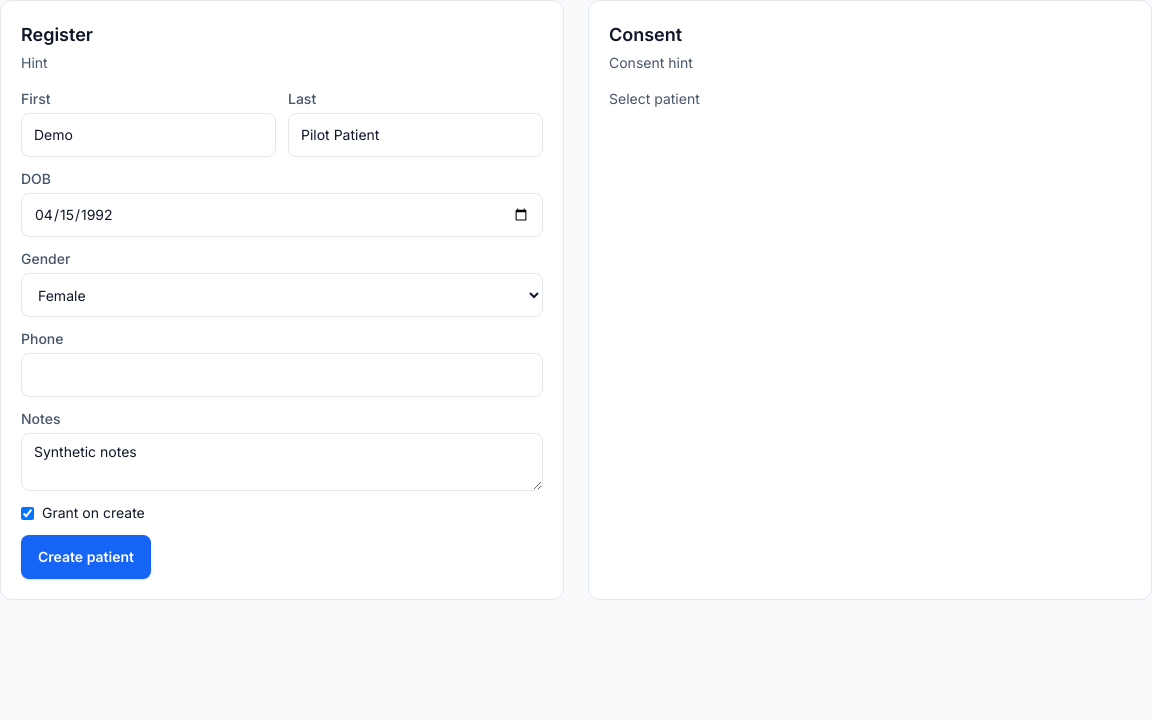
Test case: PatientOnboardingPanel › shows warning when patient is created but consent grant fails with non-409 error
The width and height of the screenshot is (1152, 720).
Click the button "Create patient" at (86, 557), box top-left (21, 535), bottom-right (151, 579)
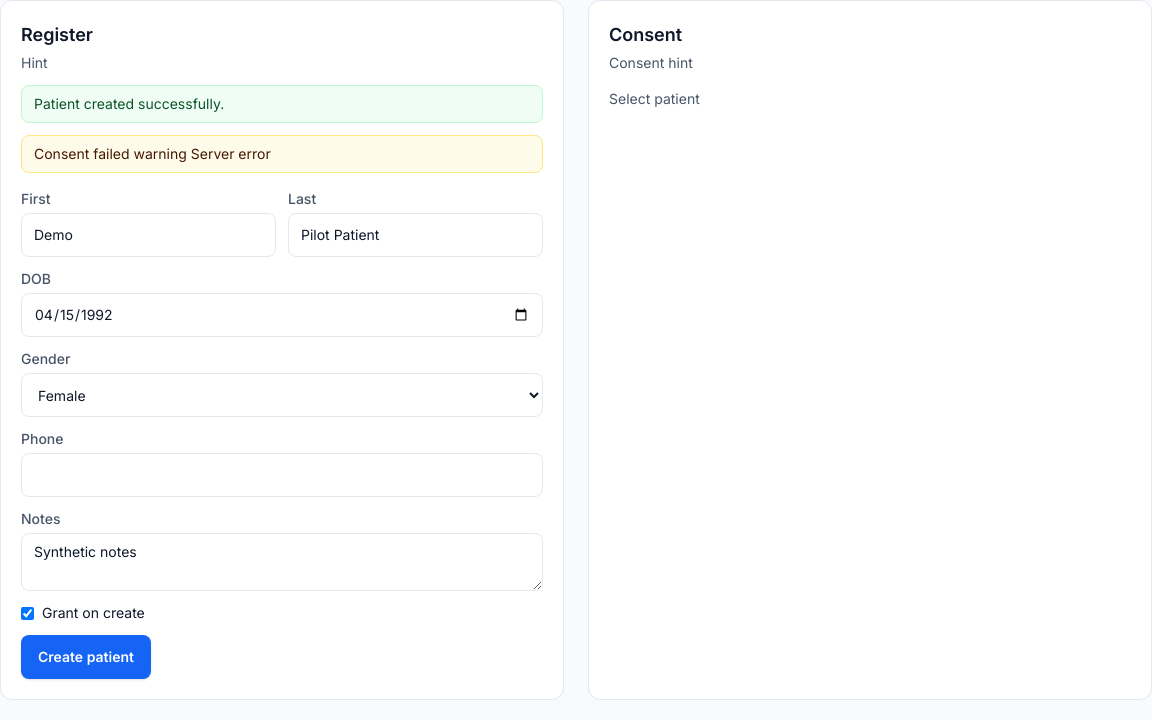
Expected: the text "Patient created successfully." is shown, top-left (21, 85), bottom-right (543, 123)
Expected: the text "Consent failed warning Server error" is shown, top-left (21, 135), bottom-right (543, 173)
